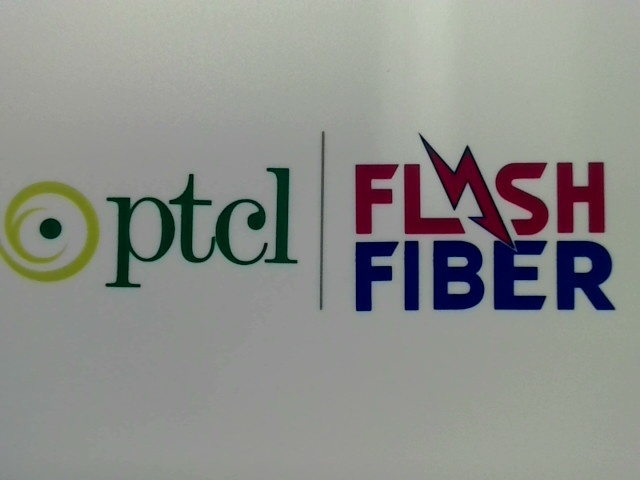BF_PTCL: (1, 158, 299, 299)
